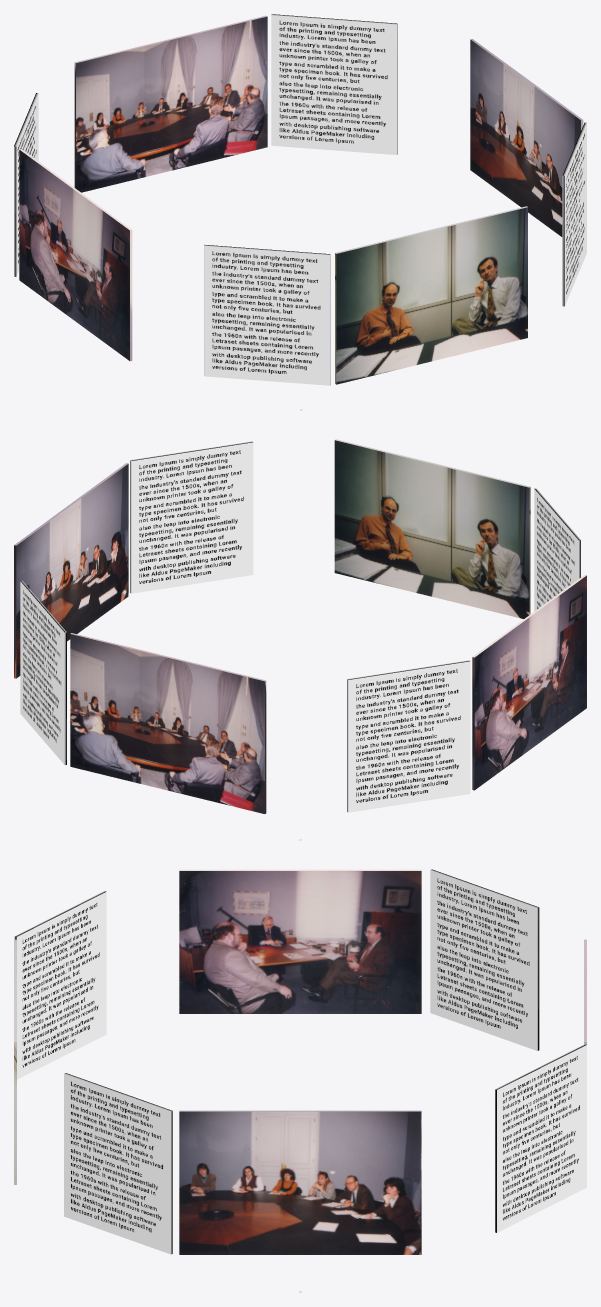
File: bundle003.glb
3 renders of one model, top to bottom at view 1: azimuth 30°, elevation 25°; view 2: azimuth 150°, elevation 25°; view 3: azimuth 270°, elevation 25°, orthographic. The views are drawn at different scales.
Visible parts, largest first — view 1: Board 002, Board 004, Board 001.003, Board 001.001, Board 003, Board 001, Board 001.002, Board 001.004; view 2: Board 002, Board 004, Board 001.004, Board 001.002, Board 003, Board 001, Board 001.003, Board 001.001; view 3: Board 001, Board 003, Board 001.004, Board 001.002, Board 001.003, Board 001.001, Board 004.
Part boxes in pixels (bbox=[...]): Board 002: bbox=[74, 15, 267, 192]; Board 004: bbox=[335, 206, 527, 384]; Board 001.003: bbox=[271, 14, 397, 154]; Board 001.001: bbox=[204, 244, 330, 385]; Board 003: bbox=[19, 149, 132, 361]; Board 001: bbox=[470, 39, 583, 236]; Board 001.002: bbox=[562, 122, 586, 306]; Board 001.004: bbox=[14, 93, 38, 276]; Board 002: bbox=[70, 633, 266, 813]; Board 004: bbox=[334, 439, 530, 618]; Board 001.004: bbox=[347, 660, 470, 812]; Board 001.002: bbox=[130, 441, 253, 593]; Board 003: bbox=[472, 575, 586, 790]; Board 001: bbox=[14, 463, 128, 678]; Board 001.003: bbox=[20, 580, 66, 764]; Board 001.001: bbox=[534, 488, 580, 611]; Board 001: bbox=[179, 1110, 421, 1254]; Board 003: bbox=[179, 869, 421, 1013]; Board 001.004: bbox=[430, 869, 539, 1050]; Board 001.002: bbox=[64, 1073, 172, 1254]; Board 001.003: bbox=[495, 1044, 586, 1232]; Board 001.001: bbox=[14, 891, 106, 1079]; Board 004: bbox=[14, 939, 16, 1184].
Size of the model in its own units: 6.85 by 3.97 by 6.84.
8 materials, 8 textured.
